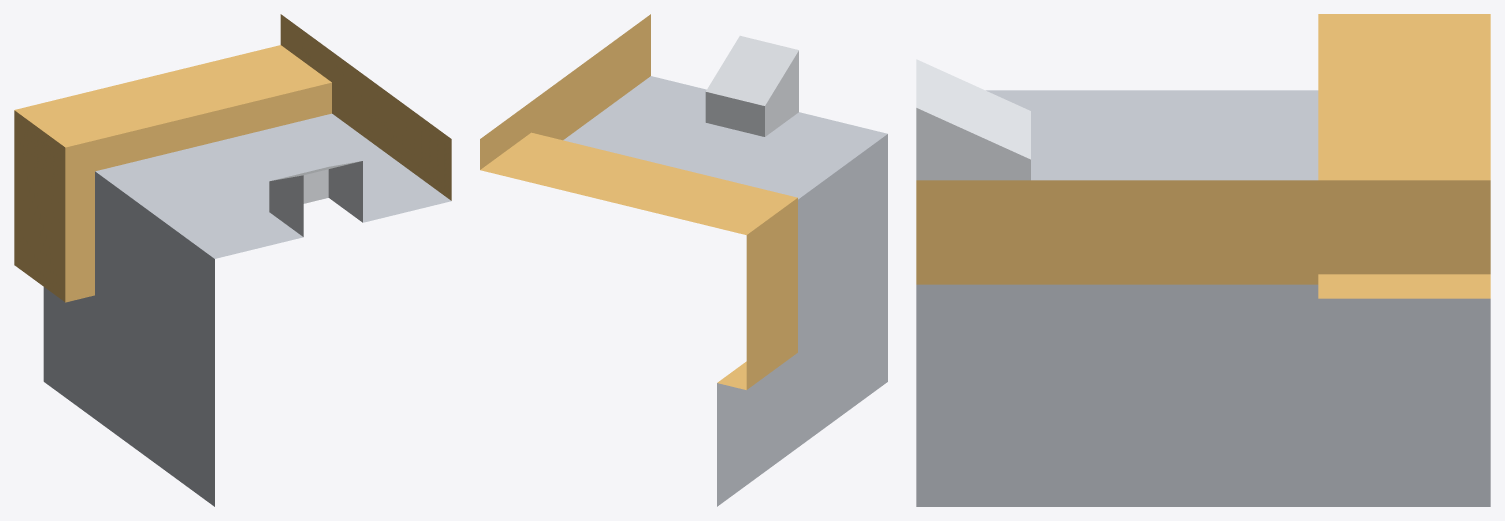
3 renders of one model, left to right at view 1: azimuth 30°, elevation 25°; view 2: azimuth 150°, elevation 25°; view 3: azimuth 270°, elevation 25°, orthographic. The views are drawn at different scales.
Size of the model in its own units: 0.9 by 1 by 1.
